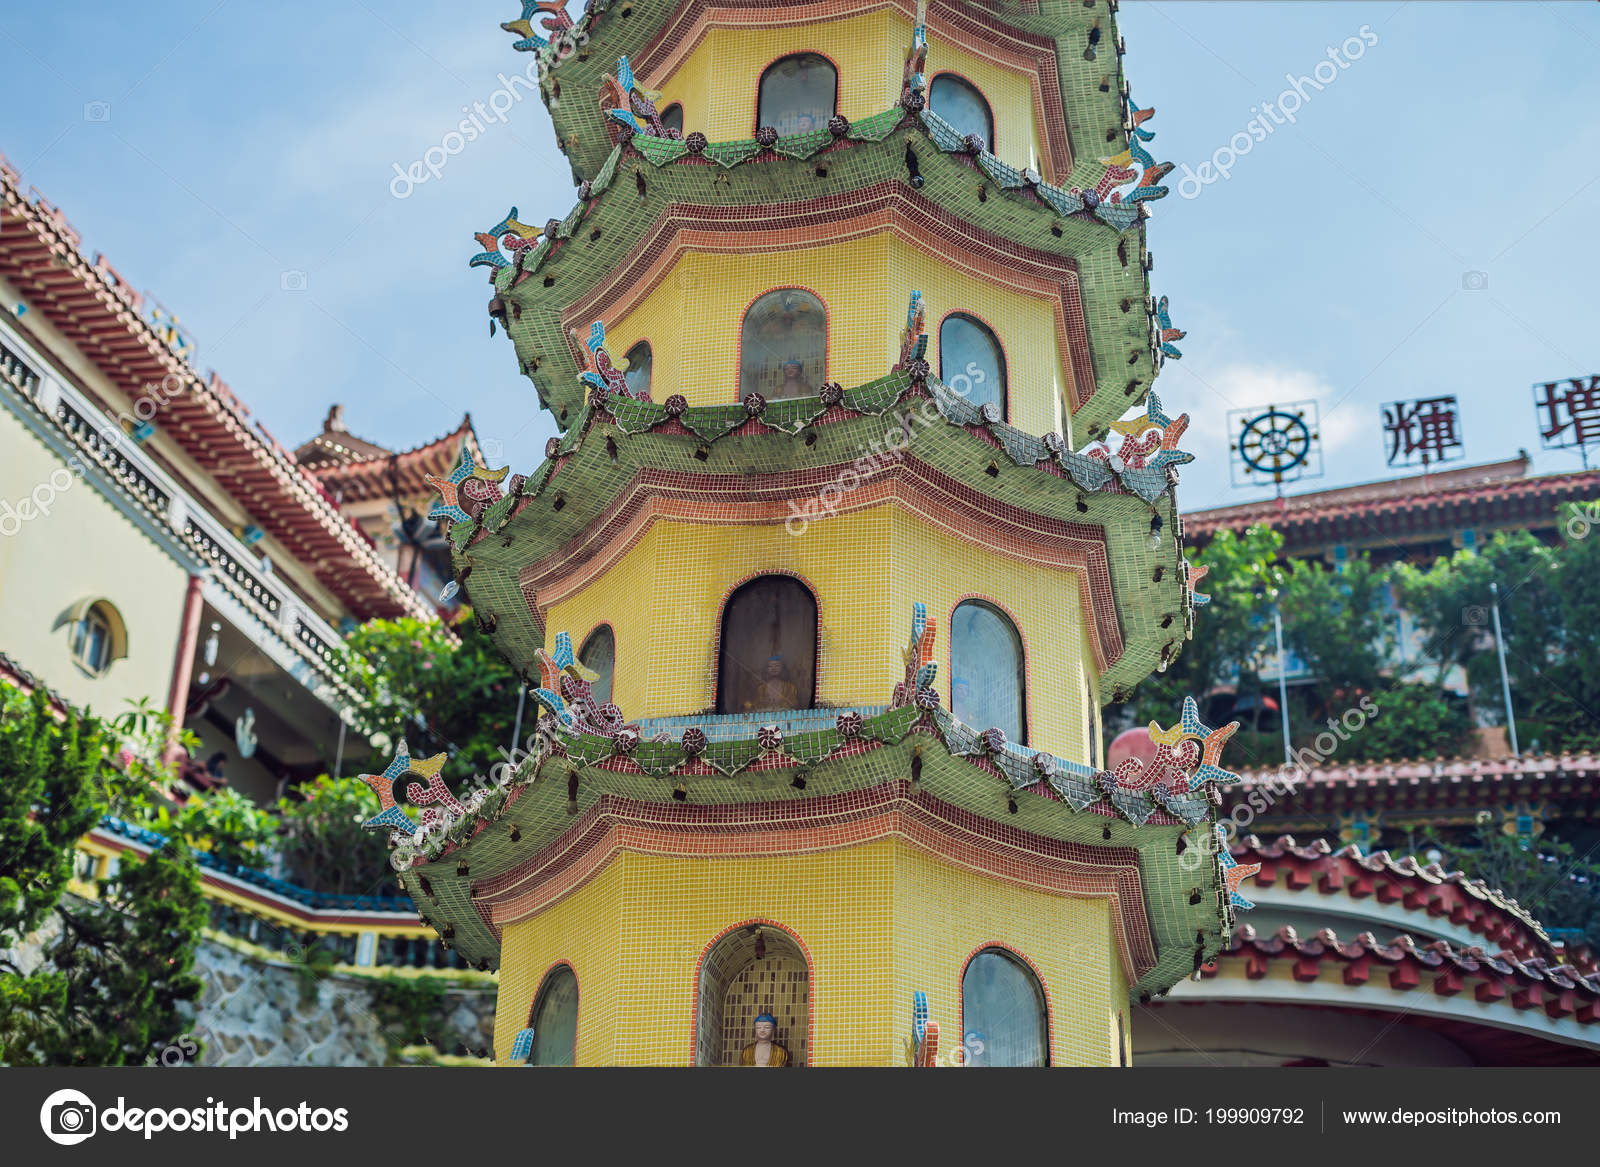Buddhist Temple: (439, 2, 1176, 1070)
